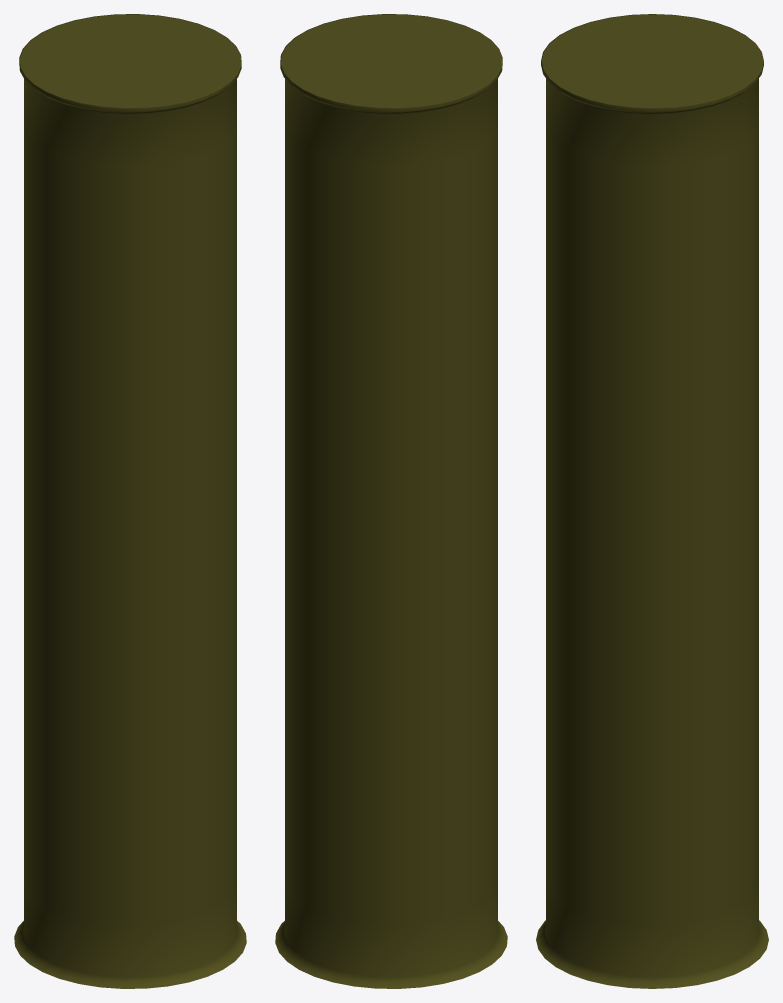
File: Battery.fbx
The picture shows the model from 3 angles, left to right: view 1: azimuth 30°, elevation 25°; view 2: azimuth 150°, elevation 25°; view 3: azimuth 270°, elevation 25°; orthographic projection.
Parts seen in each view (by area): view 1: batre; view 2: batre; view 3: batre.
Boxes of the visible parts, left/top/right/bottom form: batre: left=14, top=14, right=246, bottom=988; batre: left=275, top=14, right=507, bottom=988; batre: left=536, top=14, right=768, bottom=988.
Size of the model in its own units: 48.12 by 200 by 48.12.
